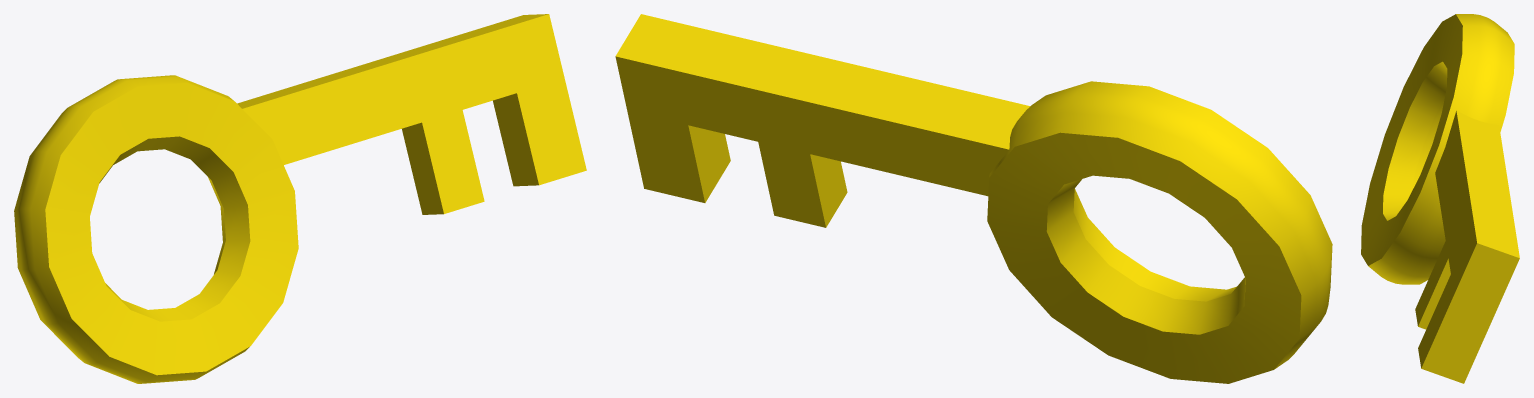
Rendered from Key .fbx.
3 renders of one model, left to right at view 1: azimuth 30°, elevation 25°; view 2: azimuth 150°, elevation 25°; view 3: azimuth 270°, elevation 25°, orthographic. The views are drawn at different scales.
Visible parts, largest first — view 1: Key__1_; view 2: Key__1_; view 3: Key__1_.
Part boxes in pixels (x1,y1,x2,y2): Key__1_: [14, 14, 586, 383]; Key__1_: [615, 14, 1332, 383]; Key__1_: [1361, 14, 1519, 383].
Size of the model in its own units: 228 by 105 by 62.35.
